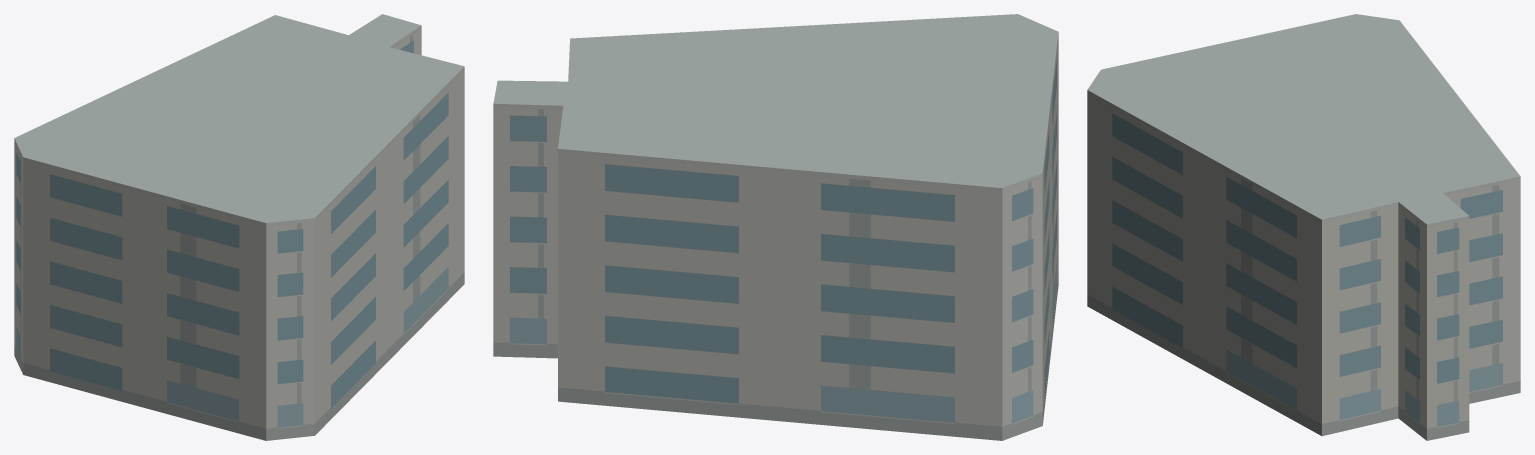
The model's file is survey-upis-32841701.glb.
3 renders of one model, left to right at view 1: azimuth 30°, elevation 25°; view 2: azimuth 150°, elevation 25°; view 3: azimuth 270°, elevation 25°, orthographic. The views are drawn at different scales.
Parts seen in each view (by area): view 1: survey-upis-32841701.tmp; view 2: survey-upis-32841701.tmp; view 3: survey-upis-32841701.tmp.
Part boxes in pixels (x1,y1,x2,y2): survey-upis-32841701.tmp: [14, 14, 464, 440]; survey-upis-32841701.tmp: [493, 14, 1058, 440]; survey-upis-32841701.tmp: [1087, 14, 1520, 440].
Size of the model in its own units: 31.81 by 15.25 by 27.68.
